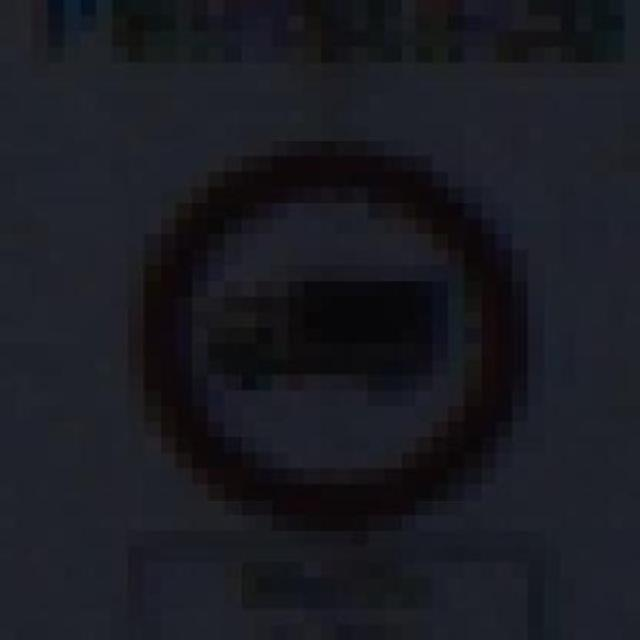Truck traffic is prohibited: (96, 78, 544, 531)
